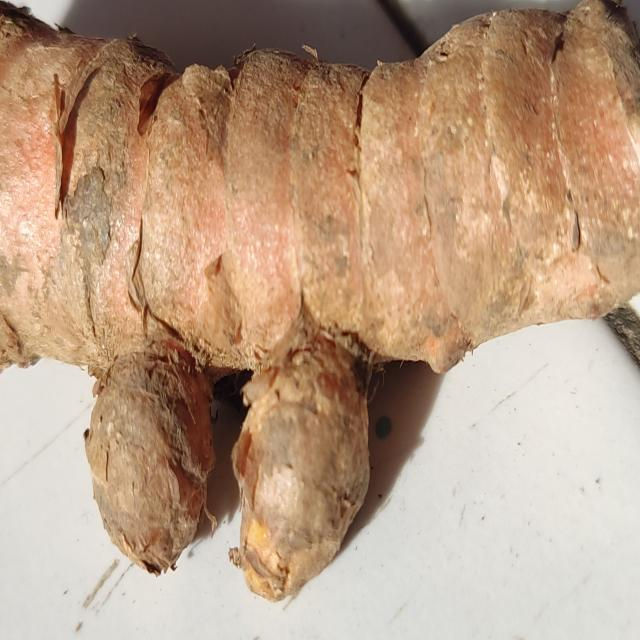ginger: (3, 6, 640, 518)
